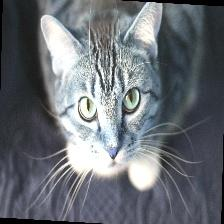kedo: (41, 3, 162, 191)
